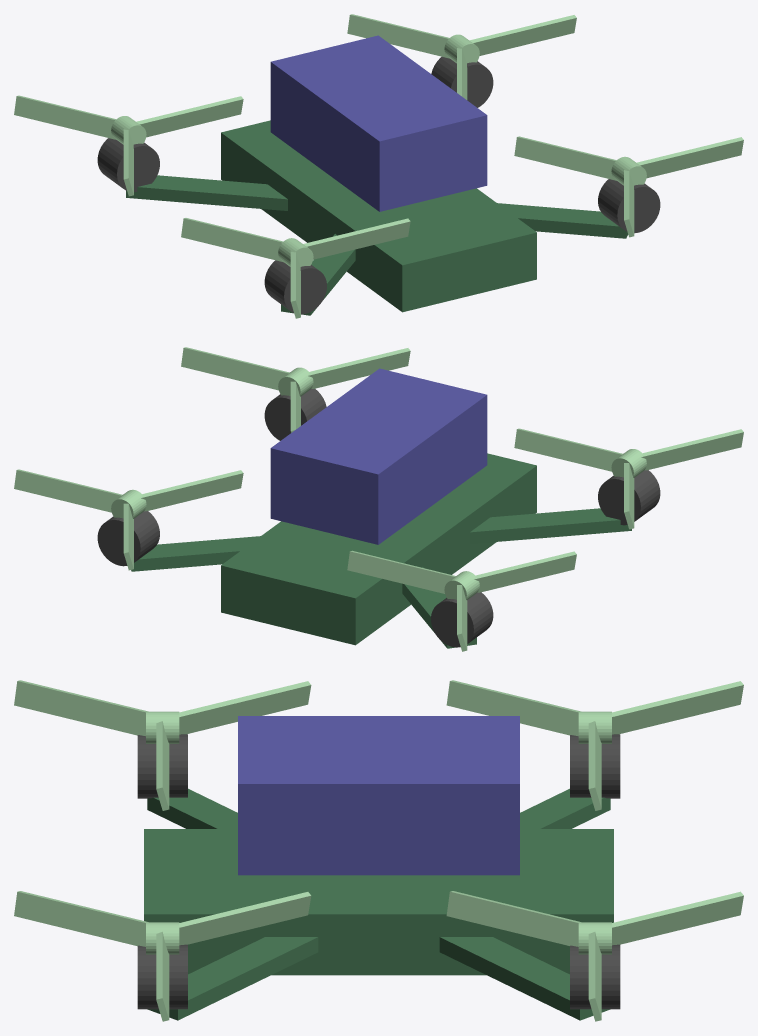
The model's file is Lethal Conception.glb.
3 views of the same model, one above another, from view 1: azimuth 30°, elevation 25°; view 2: azimuth 150°, elevation 25°; view 3: azimuth 270°, elevation 25° (orthographic). The views are drawn at different scales.
Parts seen in each view (by area): view 1: battery, frame_body, prop_0, prop_2, prop_3, prop_1, arm_3, arm_0, motor_0, motor_2, motor_3, motor_1 (+1 smaller); view 2: battery, frame_body, prop_3, prop_2, prop_1, prop_0, arm_2, arm_1, motor_1, motor_3, motor_2, motor_0 (+1 smaller); view 3: battery, frame_body, prop_0, prop_1, prop_2, prop_3, arm_1, arm_0, motor_1, motor_0, motor_3, motor_2 (+2 smaller).
Boxes of the visible parts, x1,y1,x2,y2 form: battery: (270,35,487,211); frame_body: (221,120,536,312); prop_0: (514,136,743,237); prop_2: (181,218,410,318); prop_3: (14,95,243,196); prop_1: (347,14,576,99); arm_3: (126,175,287,210); arm_0: (497,203,628,238); motor_0: (598,179,660,233); motor_2: (264,260,326,314); motor_3: (97,138,159,192); motor_1: (431,57,493,107); battery: (270,368,487,544); frame_body: (221,453,536,645); prop_3: (347,550,576,651); prop_2: (514,428,743,529); prop_1: (14,469,243,570); prop_0: (181,347,410,432); arm_2: (470,508,631,543); arm_1: (131,536,260,571); motor_1: (97,511,159,566); motor_3: (431,592,493,647); motor_2: (598,470,660,525); motor_0: (264,389,326,440); battery: (238,716,519,875); frame_body: (144,829,613,975); prop_0: (14,891,311,1021); prop_1: (446,891,743,1021); prop_2: (14,680,311,810); prop_3: (446,680,743,810); arm_1: (439,937,610,1020); arm_0: (147,937,318,1020); motor_1: (570,944,620,1009); motor_0: (137,944,187,1009); motor_3: (570,734,620,798); motor_2: (137,734,187,798).
Bounding box in the file's own units: 0.2251 × 0.06 × 0.2173.
